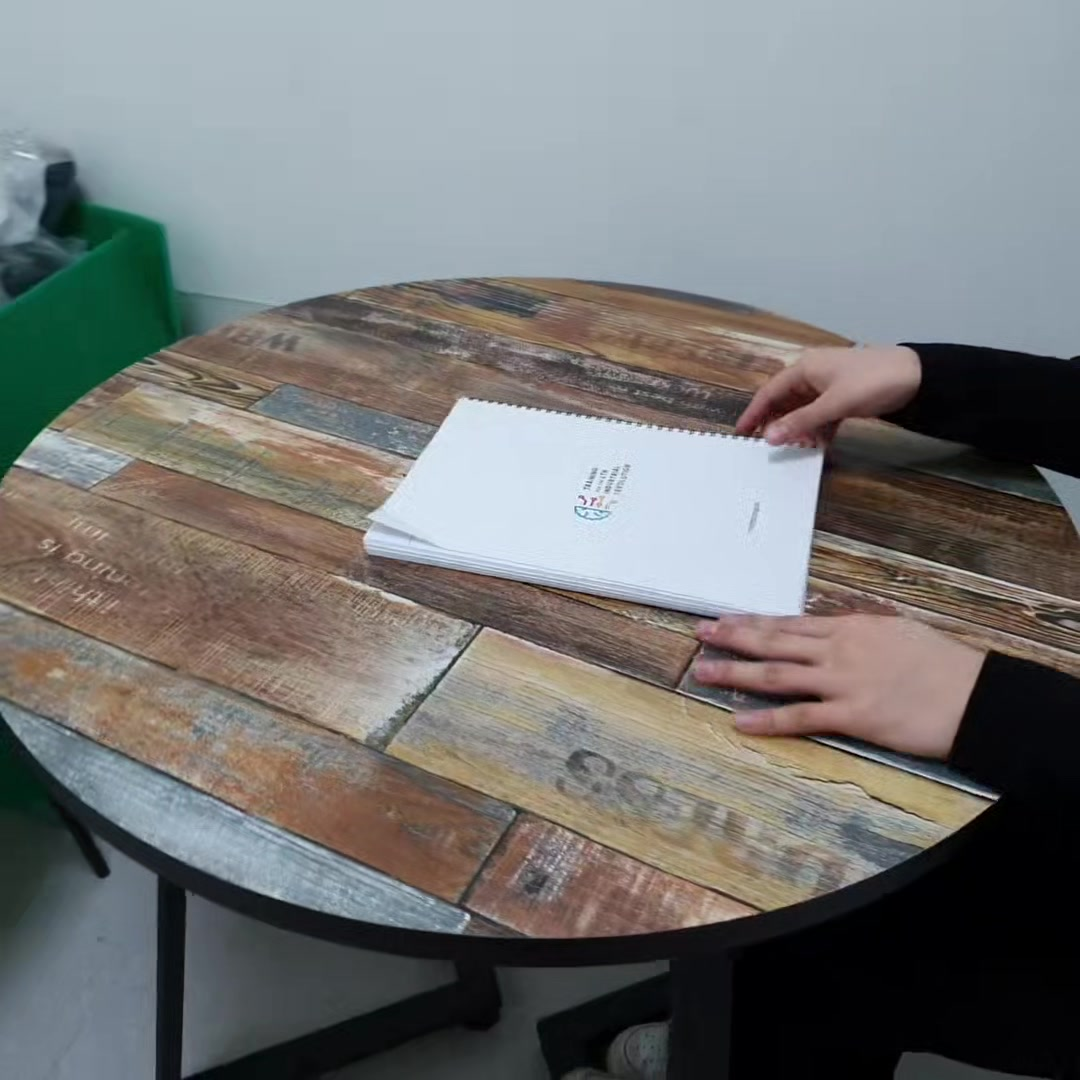book: (368, 381, 823, 631)
